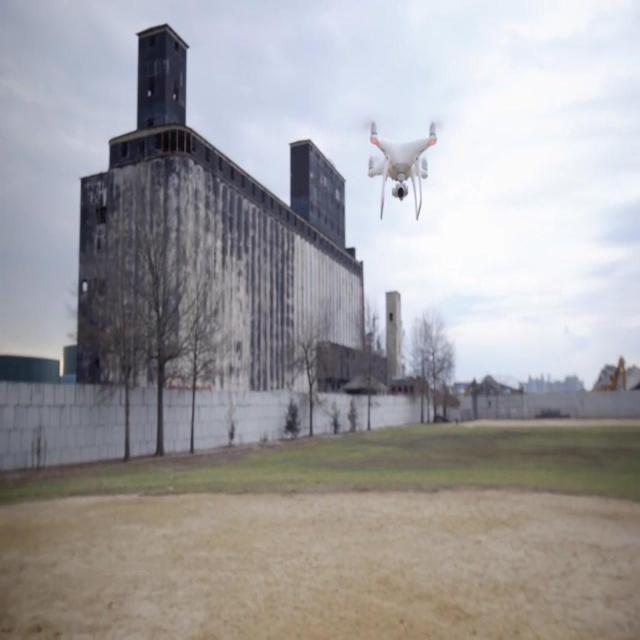drone: (360, 113, 439, 226)
